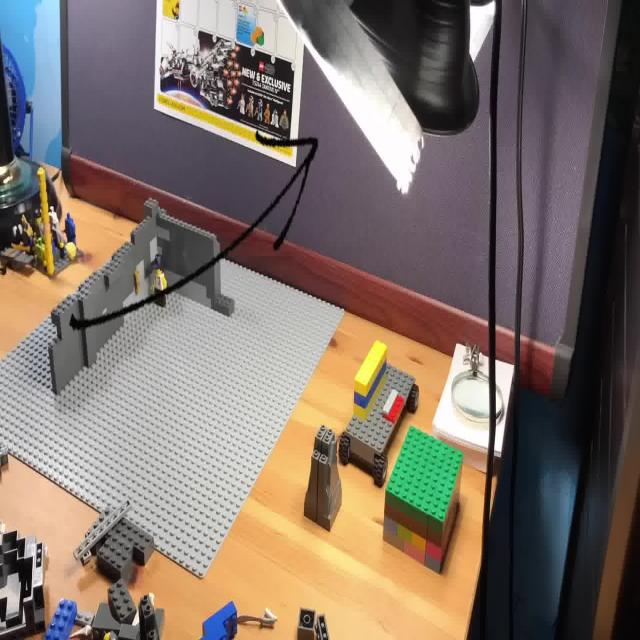4: (161, 273, 171, 294)
figure: (0, 201, 346, 582), (47, 208, 221, 395), (54, 519, 162, 639), (339, 344, 418, 489), (386, 429, 463, 556), (0, 529, 47, 639), (305, 426, 344, 532)
hand: (148, 252, 173, 313)
